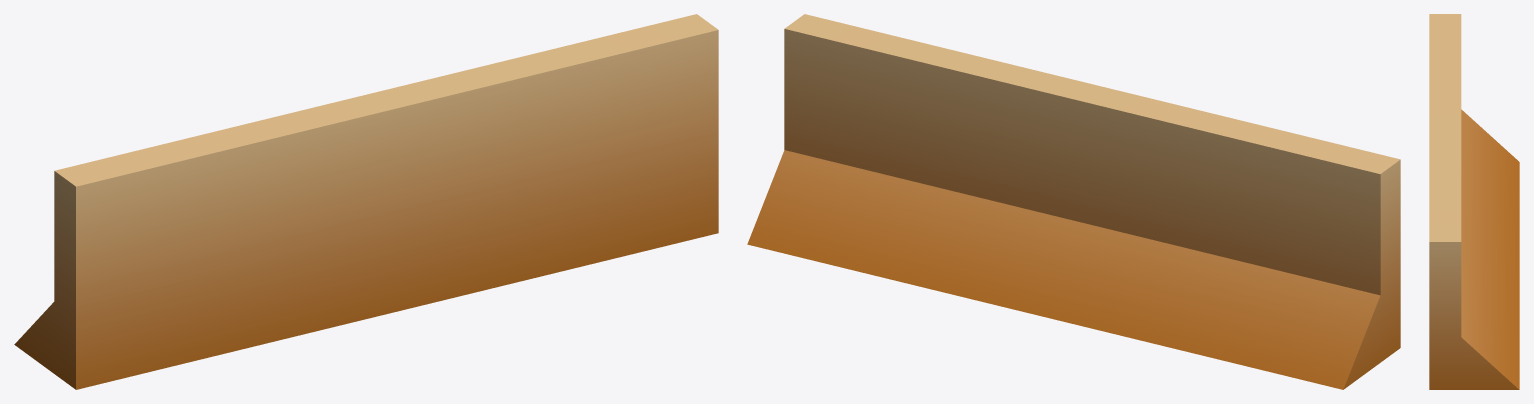
Rendered from corridor_bridge_wall_mirrored.fbx.
3 renders of one model, left to right at view 1: azimuth 30°, elevation 25°; view 2: azimuth 150°, elevation 25°; view 3: azimuth 270°, elevation 25°, orthographic. The views are drawn at different scales.
Visible parts, largest first — view 1: corridor.bridge.wall.mirror; view 2: corridor.bridge.wall.mirror; view 3: corridor.bridge.wall.mirror.
Part boxes in pixels (box(x1,y1,x2,y2)): corridor.bridge.wall.mirror: box(14, 14, 718, 389); corridor.bridge.wall.mirror: box(747, 14, 1400, 389); corridor.bridge.wall.mirror: box(1429, 14, 1519, 389).
Size of the model in its own units: 90 by 27.2 by 15.01.
